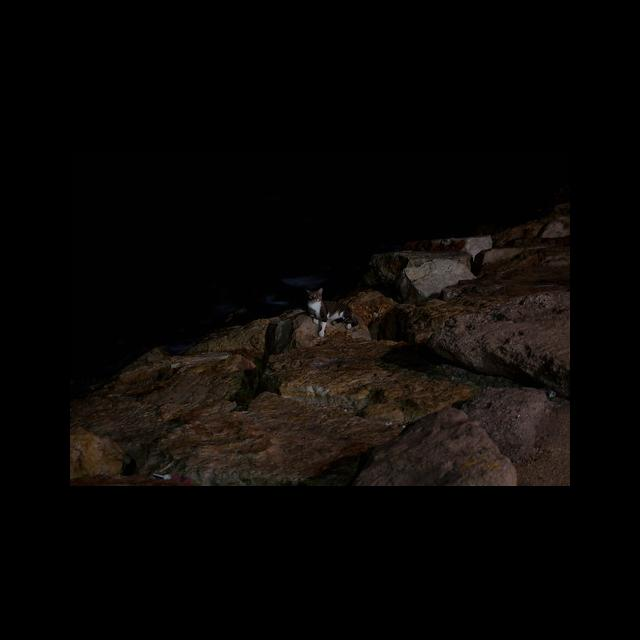animals: (303, 288, 354, 338)
